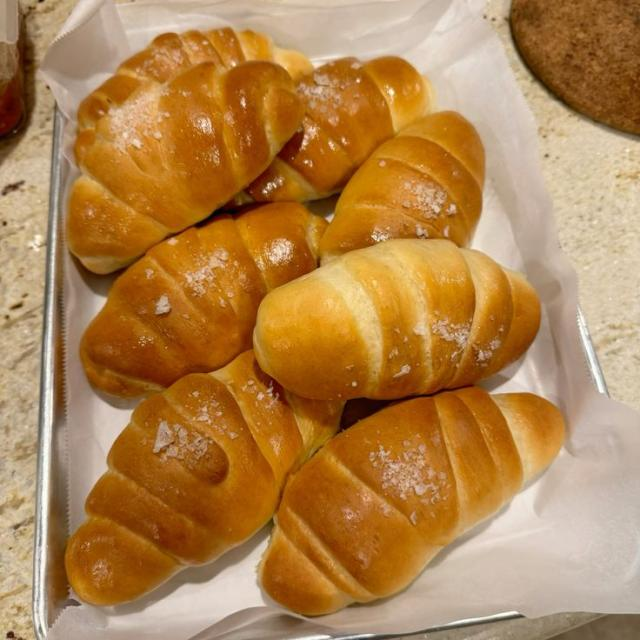bread: (66, 351, 341, 605), (260, 387, 564, 615), (67, 61, 304, 273), (80, 203, 327, 397), (254, 239, 540, 399), (235, 56, 433, 202), (320, 111, 485, 263), (78, 27, 313, 133)
